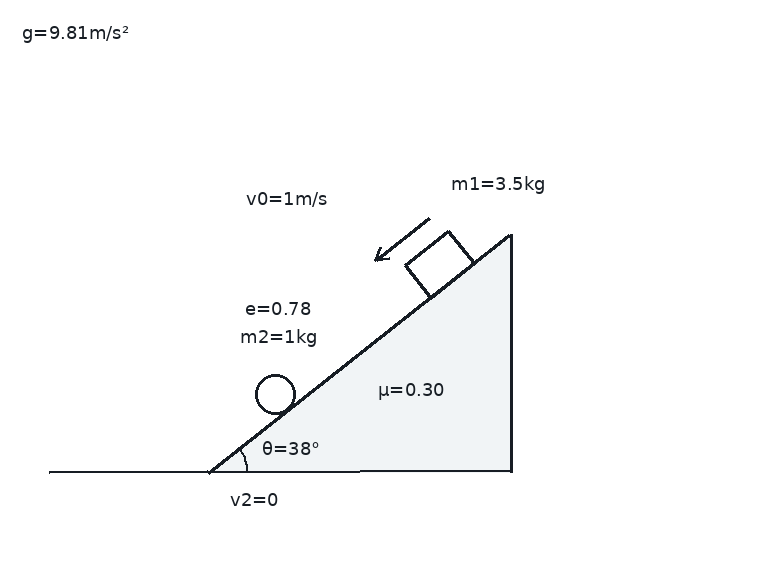ball: (253, 372, 297, 416)
block: (403, 229, 476, 300)
ramp: (205, 233, 512, 474)
